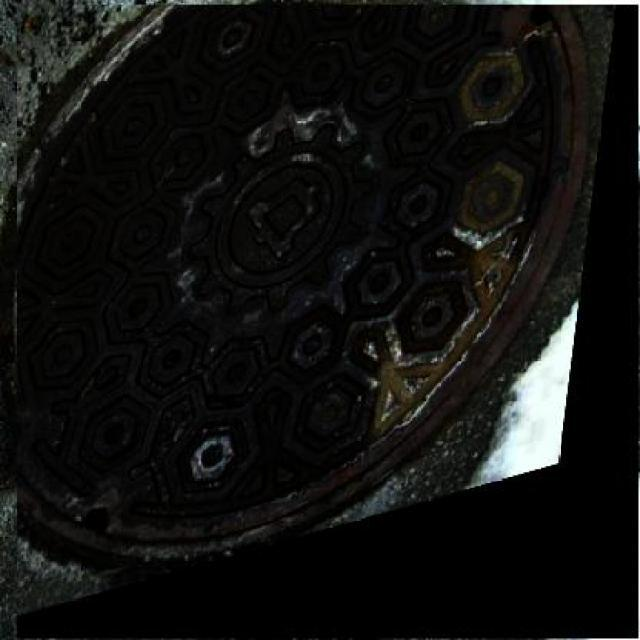Manhole: (18, 4, 640, 638)
